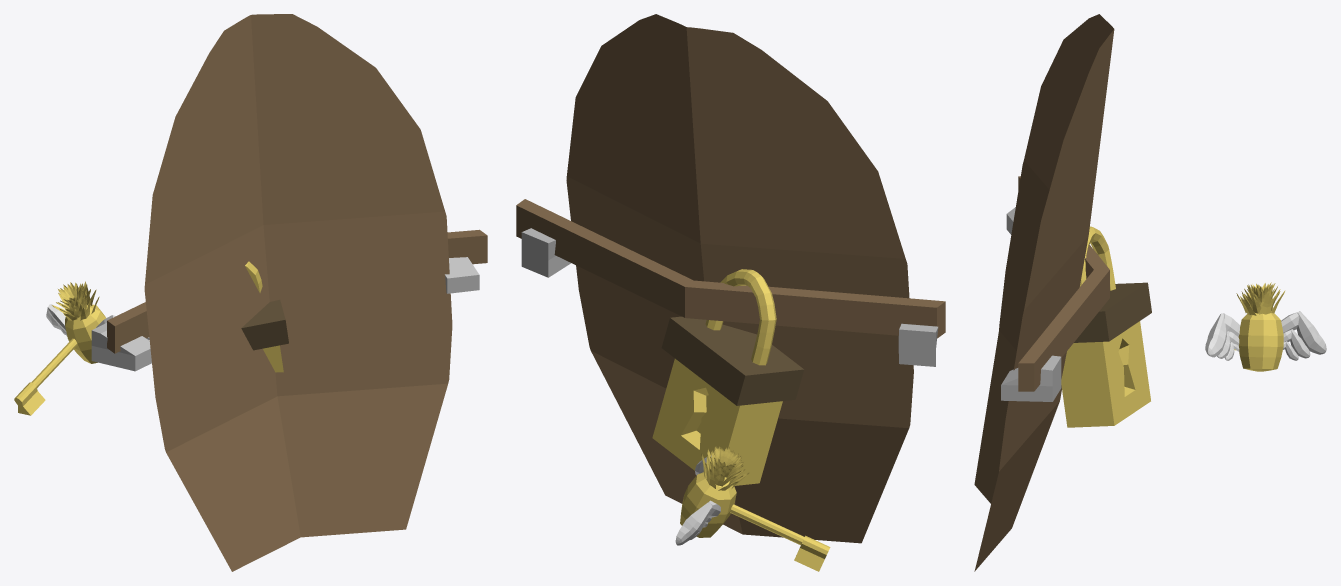
File: animUnlock.glb
3 renders of one model, left to right at view 1: azimuth 30°, elevation 25°; view 2: azimuth 150°, elevation 25°; view 3: azimuth 270°, elevation 25°, orthographic. The views are drawn at different scales.
Visible parts, largest first — view 1: porte, key, Cube.002, Cylinder.006, Cube.008, Cube.007; view 2: porte, Cylinder.006, Cube.002, key, Cube.008, Cube.007; view 3: porte, Cylinder.006, key, Cube.002, Cube.007.
Part boxes in pixels (left/top/right/bottom): porte: left=144, top=14, right=452, bottom=571; key: left=14, top=281, right=149, bottom=415; Cube.002: left=107, top=229, right=487, bottom=353; Cylinder.006: left=241, top=261, right=288, bottom=372; Cube.008: left=91, top=323, right=151, bottom=371; Cube.007: left=444, top=257, right=479, bottom=293; porte: left=566, top=14, right=913, bottom=543; Cylinder.006: left=652, top=269, right=804, bottom=485; Cube.002: left=516, top=199, right=945, bottom=338; key: left=675, top=446, right=830, bottom=571; Cube.008: left=898, top=323, right=938, bottom=366; Cube.007: left=521, top=228, right=570, bottom=277; porte: left=974, top=14, right=1114, bottom=571; Cylinder.006: left=1061, top=226, right=1151, bottom=427; key: left=1205, top=282, right=1326, bottom=371; Cube.002: left=1018, top=176, right=1109, bottom=391; Cube.007: left=1001, top=355, right=1061, bottom=401.
Size of what is drawn, in the model's own units: 4.63 by 5.66 by 3.61.
